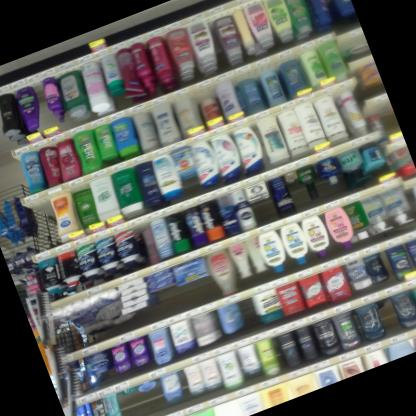empty_space: (26, 197, 63, 245), (236, 294, 261, 329)
